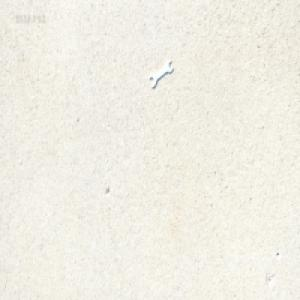Wrench: (149, 59, 172, 89)
